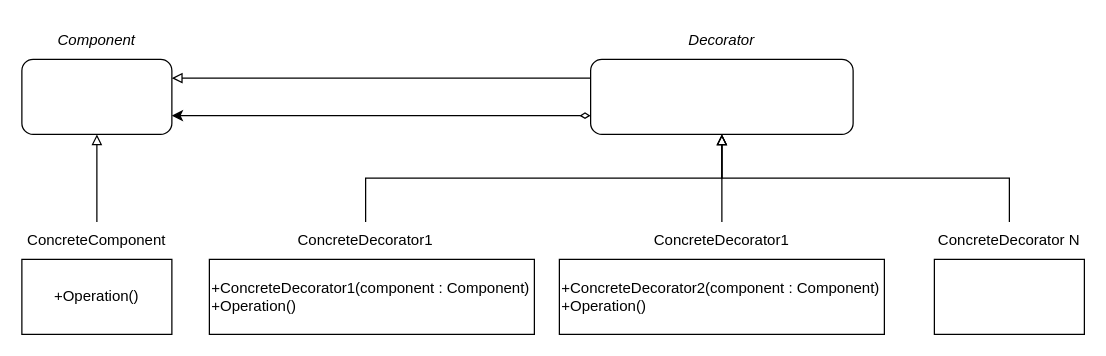
Some shapes in this 1106 by 356 pixel diagram are drawn without their labels. The shapes that lost their labels are listed below. From the top down, each one's centre as x and y in pixels, then its label:
[96,96]: + Operation()
[721,96]: #component : Component #Decorator(component : Component)
